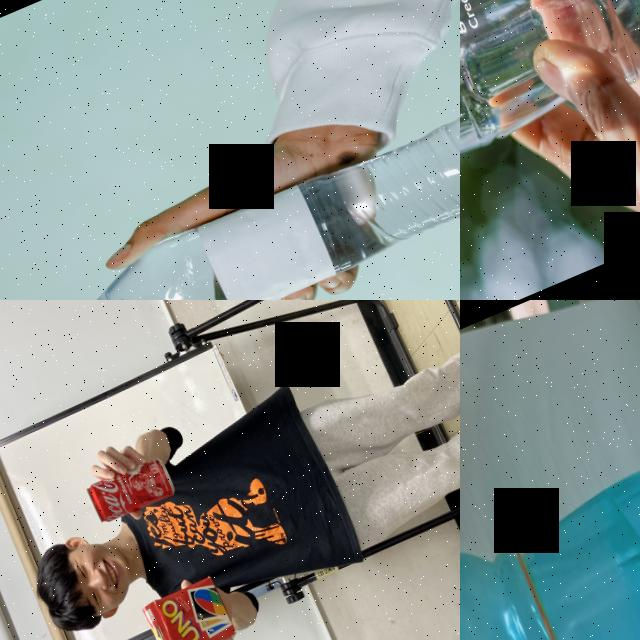bottle: (8, 72, 460, 300), (460, 0, 640, 270), (460, 408, 640, 640)
can: (84, 450, 178, 526)
